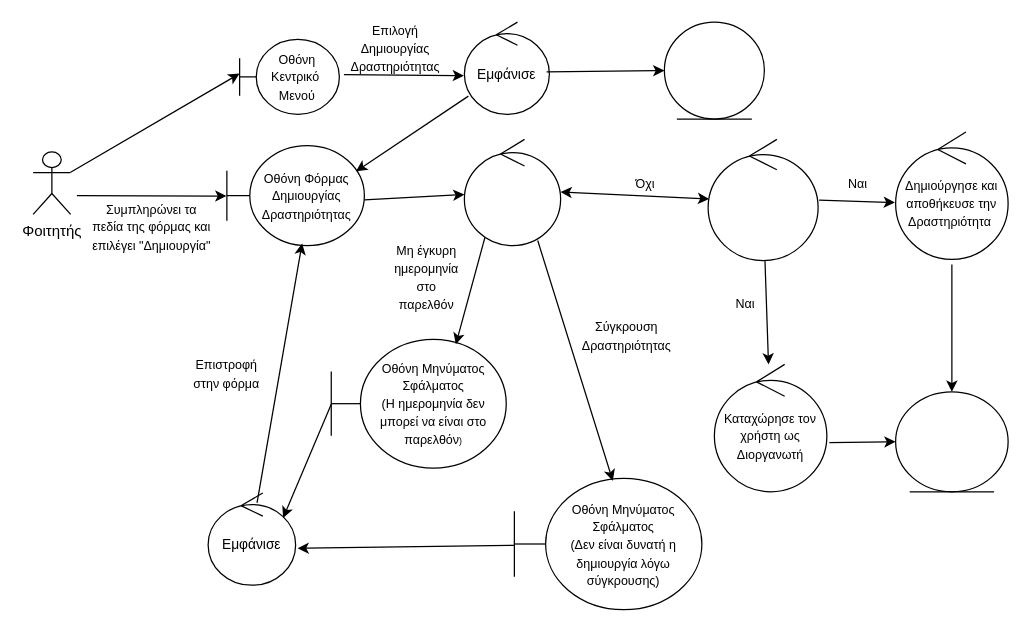
Some shapes in this 1030 by 633 pixel diagram are drawn without their labels. The shapes that lost their labels are listed below. From the top down, each one's centre as x and y in pixels, then its label:
At point (713, 70): "Πεδία Φόρμας".
At point (512, 192): "Έλεγχος Εγκυρότητας".
At point (762, 199): "Έγκυρα Στοιχεία;".
At point (951, 441): "Βάση Δεδομένων".
